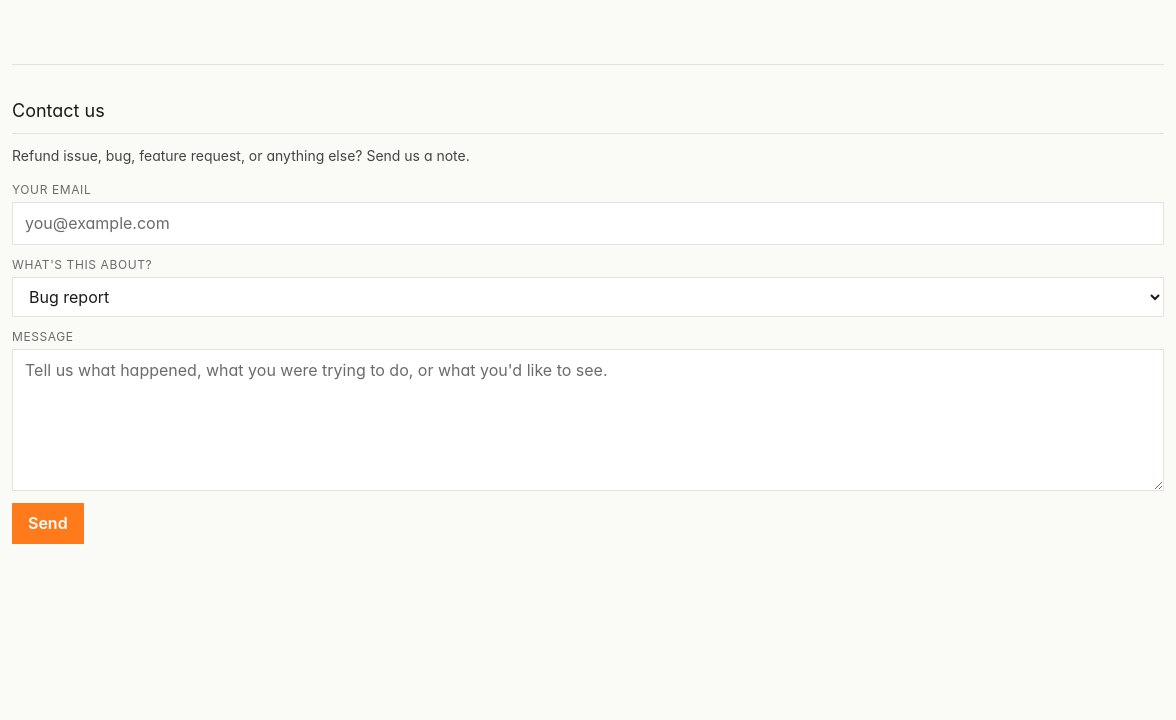
Scenario: ContactForm › surfaces captcha_failed errors
Type "me@example.com" into the field labelled "Your email" at (588, 223), box left=12, top=202, right=1164, bottom=245
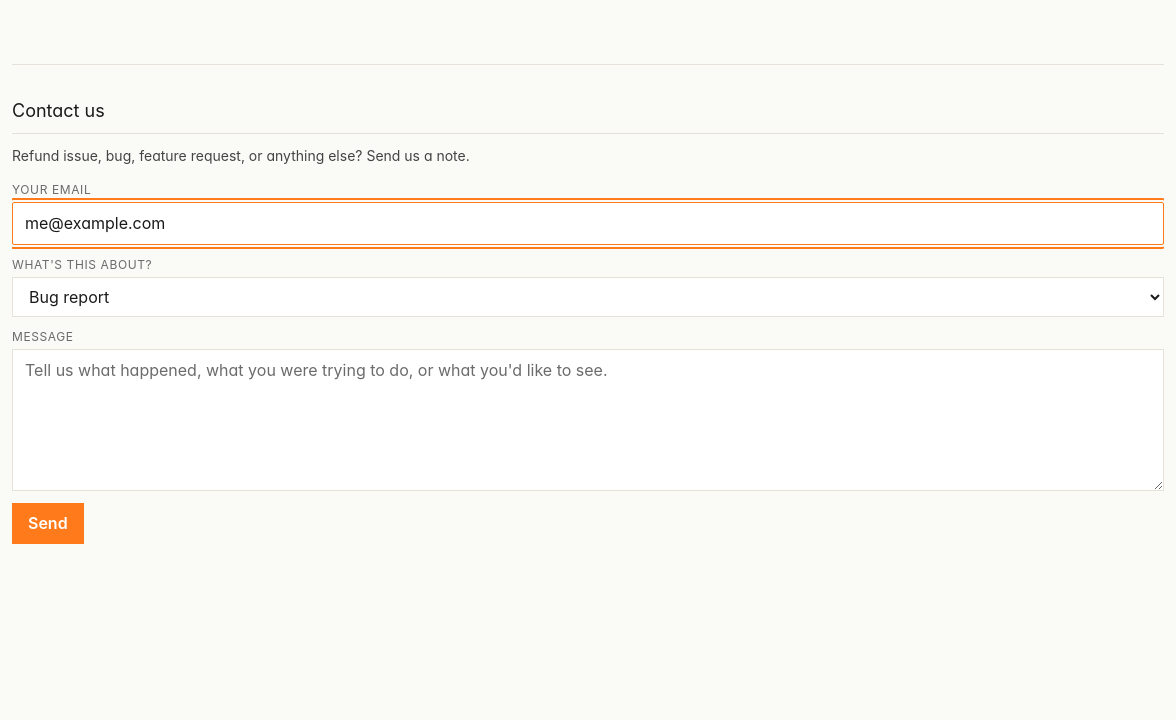
Type "Just a long enough message." into the text box labelled "Message" at (588, 420), box left=12, top=349, right=1164, bottom=491
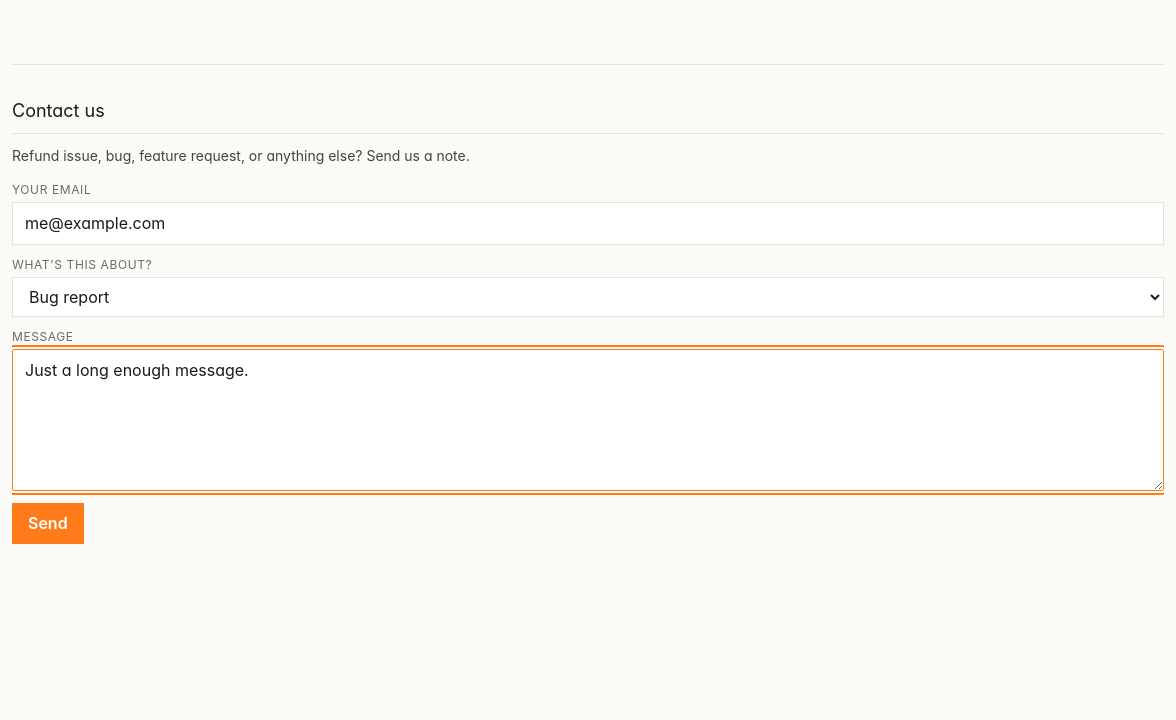
Click the button "Send" at (48, 523), box left=12, top=503, right=84, bottom=544
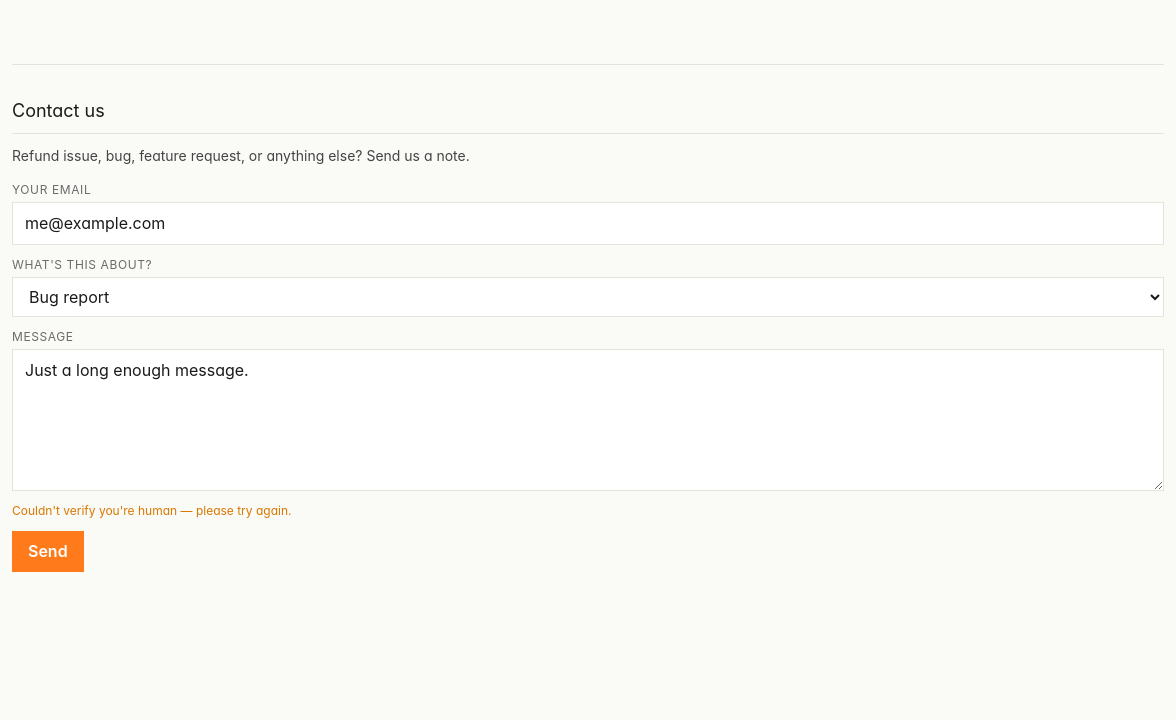
Expected: the text "Couldn't verify you're human — please try again." is shown, left=12, top=503, right=292, bottom=518
